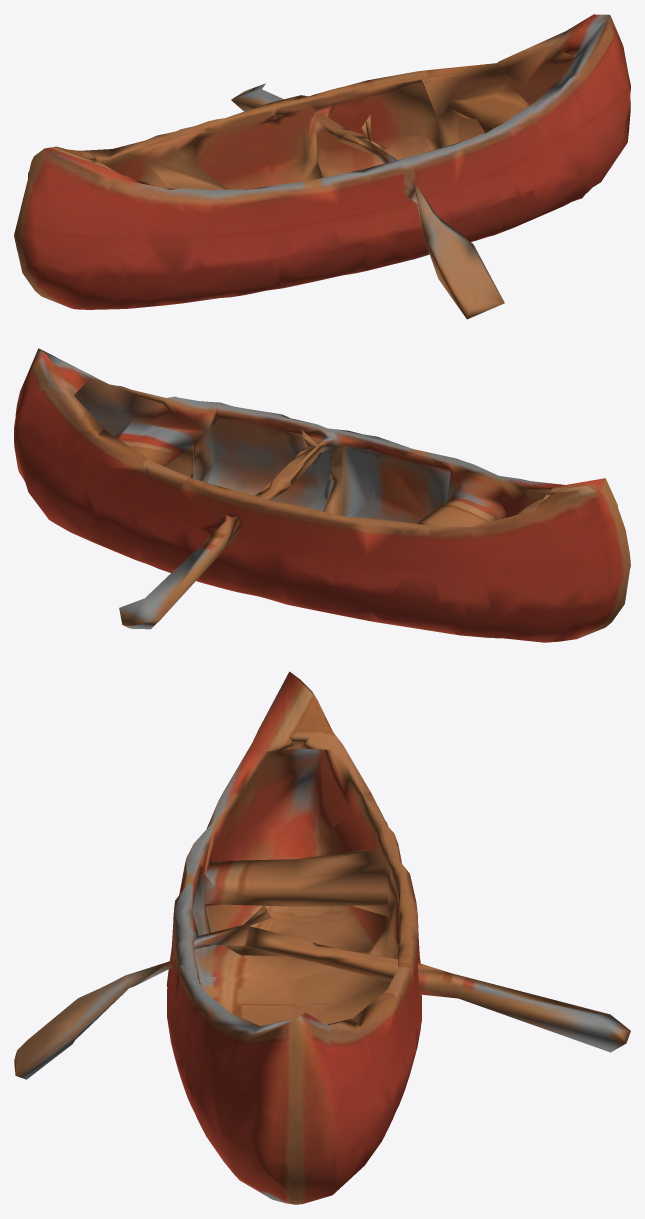
Rendered from canoe.glb.
3 views of the same model, one above another, from view 1: azimuth 30°, elevation 25°; view 2: azimuth 150°, elevation 25°; view 3: azimuth 270°, elevation 25° (orthographic). The views are drawn at different scales.
Parts seen in each view (by area): view 1: prop; view 2: prop; view 3: prop.
Boxes of the visible parts, box(x1,y1,x2,y2) form: prop: box(14, 14, 630, 319); prop: box(14, 348, 630, 642); prop: box(14, 671, 630, 1204).
Bounding box in the file's own units: 3.65 × 1 × 2.61.
Materials: 1 (1 with a texture image).
